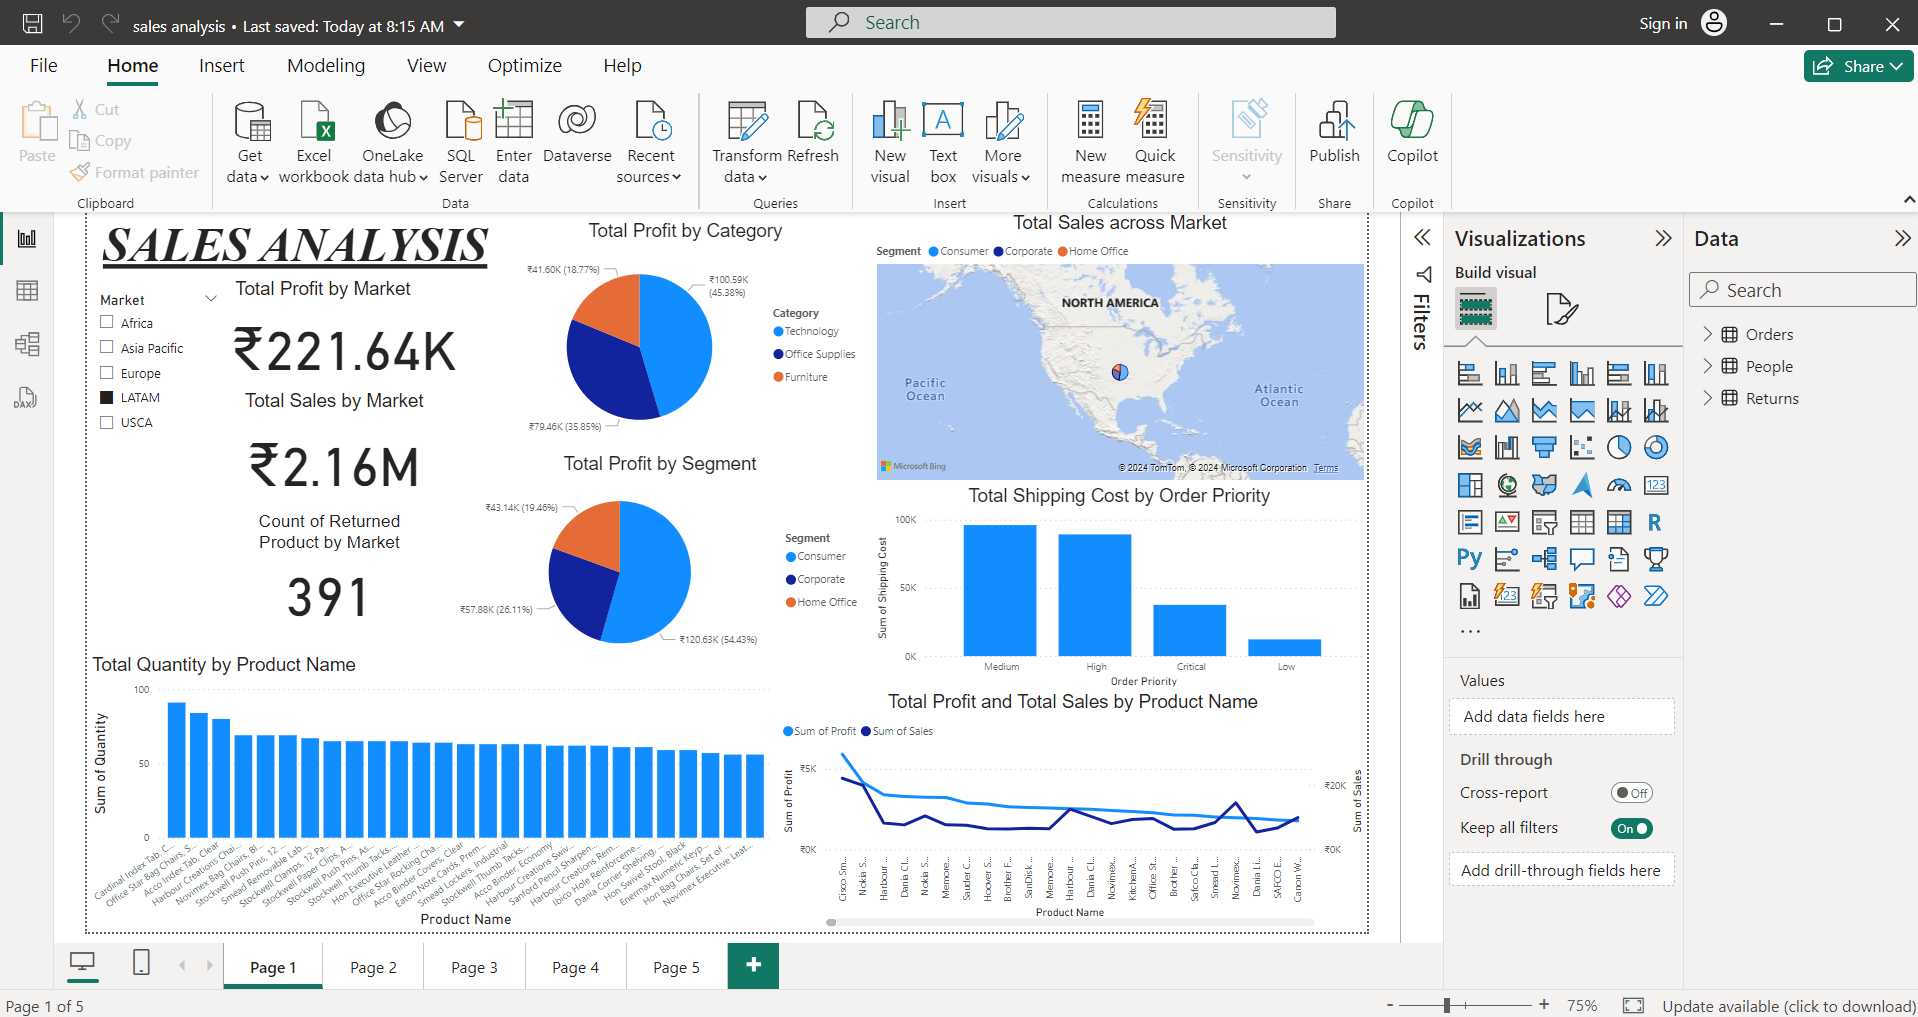

What the dashboard file says about the page in this screenshot:
{"tool":"powerbi","page":{"name":"Page 1","canvas":[1280,720],"ordinal":0},"visuals":[{"type":"textbox","box":[10.6,0,403.2,66.4],"z":0},{"type":"map","title":"Total Sales across Market ","fields":{"Category":["Orders.Market"],"Size":["Sum(Orders.Sales)"],"Series":["Orders.Segment"]},"box":[783.8,0,496.9,273.3],"z":1000},{"type":"slicer","title":"Market","fields":{"Values":["Orders.Market"]},"box":[0,74.2,143,165.6],"z":2000},{"type":"lineChart","title":"Total Profit and Total Sales by Product Name","fields":{"Y":["Sum(Orders.Profit)"],"Y2":["Sum(Orders.Sales)"],"Category":["Orders.Product Name"]},"box":[690.1,479.5,590.7,239.7],"z":3000},{"type":"kpi","title":"Total Sales by Market","fields":{"Indicator":["Sum(Orders.Sales)"],"TrendLine":["Orders.Market"]},"box":[131.1,178.8,231.8,120.5],"z":4000},{"type":"kpi","title":"Count of Returned Product by Market","fields":{"Indicator":["CountNonNull(Returns.Returned)"],"TrendLine":["Orders.Market"]},"box":[143,299.3,198.7,128.5],"z":5000},{"type":"columnChart","title":"Total Quantity by Product Name","fields":{"Y":["Sum(Orders.Quantity)"],"Category":["Orders.Product Name"]},"box":[0,441.9,690.3,277.4],"z":6000},{"type":"kpi","title":"Total Profit by Market","fields":{"Indicator":["Sum(Orders.Profit)"],"TrendLine":["Orders.Market"]},"box":[143,66.2,227.8,112.6],"z":7000},{"type":"pieChart","title":"Total Profit by Segment","fields":{"Y":["Sum(Orders.Profit)"],"Category":["Orders.Segment"]},"box":[361.6,241.1,422.5,217.2],"z":8000},{"type":"columnChart","title":"Total Shipping Cost by Order Priority","fields":{"Category":["Orders.Order Priority"],"Y":["Sum(Orders.Shipping Cost)"]},"box":[783.8,273.3,495.3,206.9],"z":9000},{"type":"pieChart","title":"Total Profit by Category","fields":{"Category":["Orders.Category"],"Y":["Sum(Orders.Profit)"]},"box":[413.2,7.9,369.5,233.1],"z":10000}]}

Visuals, with their boxes on the page's 1280x720 design canvas (x1, y1, x2, y2). These are canvas units, not pixel positions in the 1918x1017 screenshot, which may show the page scaled, cropped or inside an application window:
textbox: {"x1": 11, "y1": 0, "x2": 414, "y2": 66}
"Total Sales across Market " map: {"x1": 784, "y1": 0, "x2": 1281, "y2": 273}
"Market" slicer: {"x1": 0, "y1": 74, "x2": 143, "y2": 240}
"Total Profit and Total Sales by Product Name" lineChart: {"x1": 690, "y1": 480, "x2": 1281, "y2": 719}
"Total Sales by Market" kpi: {"x1": 131, "y1": 179, "x2": 363, "y2": 299}
"Count of Returned Product by Market" kpi: {"x1": 143, "y1": 299, "x2": 342, "y2": 428}
"Total Quantity by Product Name" columnChart: {"x1": 0, "y1": 442, "x2": 690, "y2": 719}
"Total Profit by Market" kpi: {"x1": 143, "y1": 66, "x2": 371, "y2": 179}
"Total Profit by Segment" pieChart: {"x1": 362, "y1": 241, "x2": 784, "y2": 458}
"Total Shipping Cost by Order Priority" columnChart: {"x1": 784, "y1": 273, "x2": 1279, "y2": 480}
"Total Profit by Category" pieChart: {"x1": 413, "y1": 8, "x2": 783, "y2": 241}
